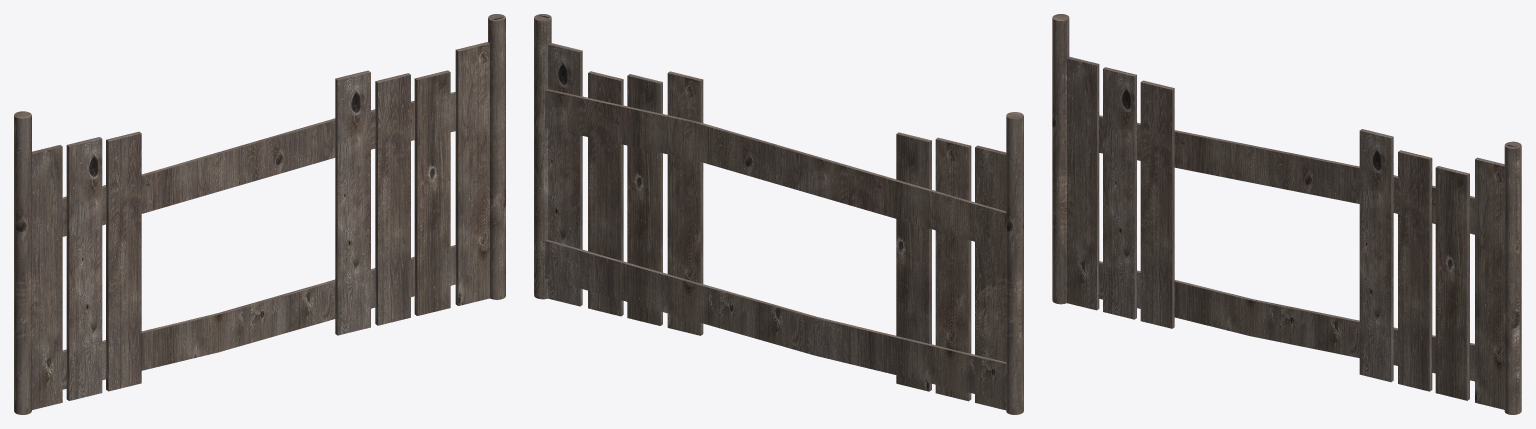
Rendered from Fence04.fbx.
The picture shows the model from 3 angles, left to right: view 1: azimuth 30°, elevation 25°; view 2: azimuth 150°, elevation 25°; view 3: azimuth 330°, elevation 25°; orthographic projection. The views are drawn at different scales.
Parts seen in each view (by area): view 1: Fence04; view 2: Fence04; view 3: Fence04.
Part boxes in pixels (x1,y1,x2,y2): Fence04: [14, 14, 505, 414]; Fence04: [534, 14, 1023, 414]; Fence04: [1052, 14, 1521, 414].
Bounding box in the file's own units: 374 × 216 × 12.45.
